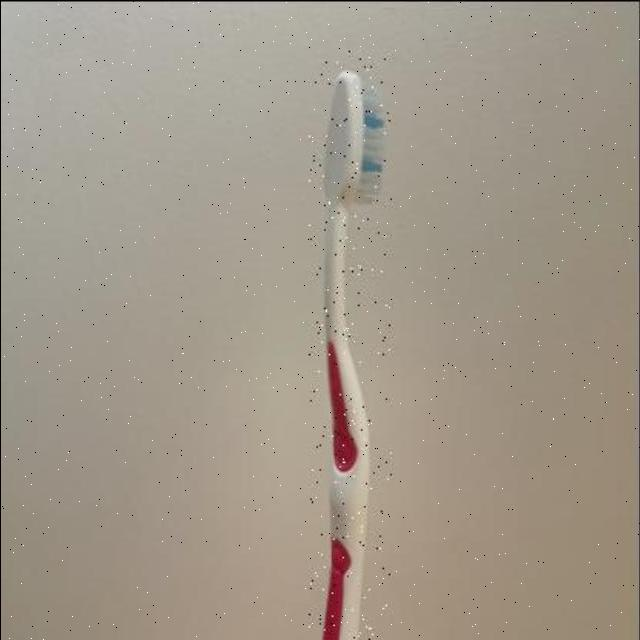toothbrush: (308, 50, 392, 640)
